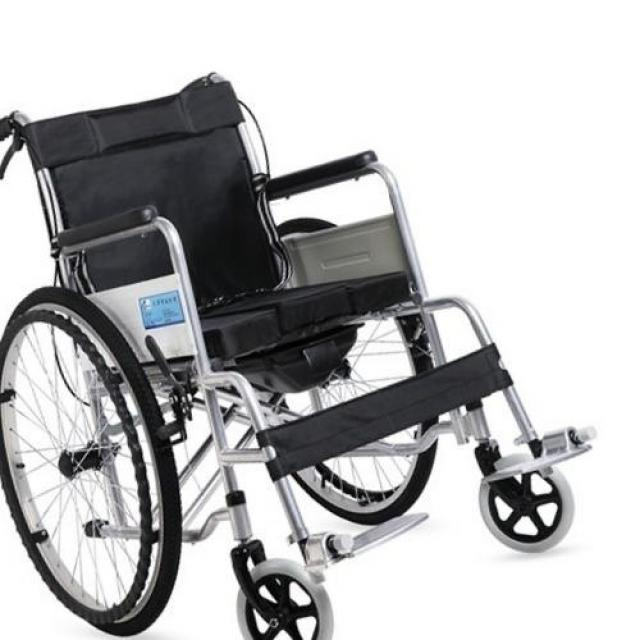wheelchair: (4, 61, 605, 640)
